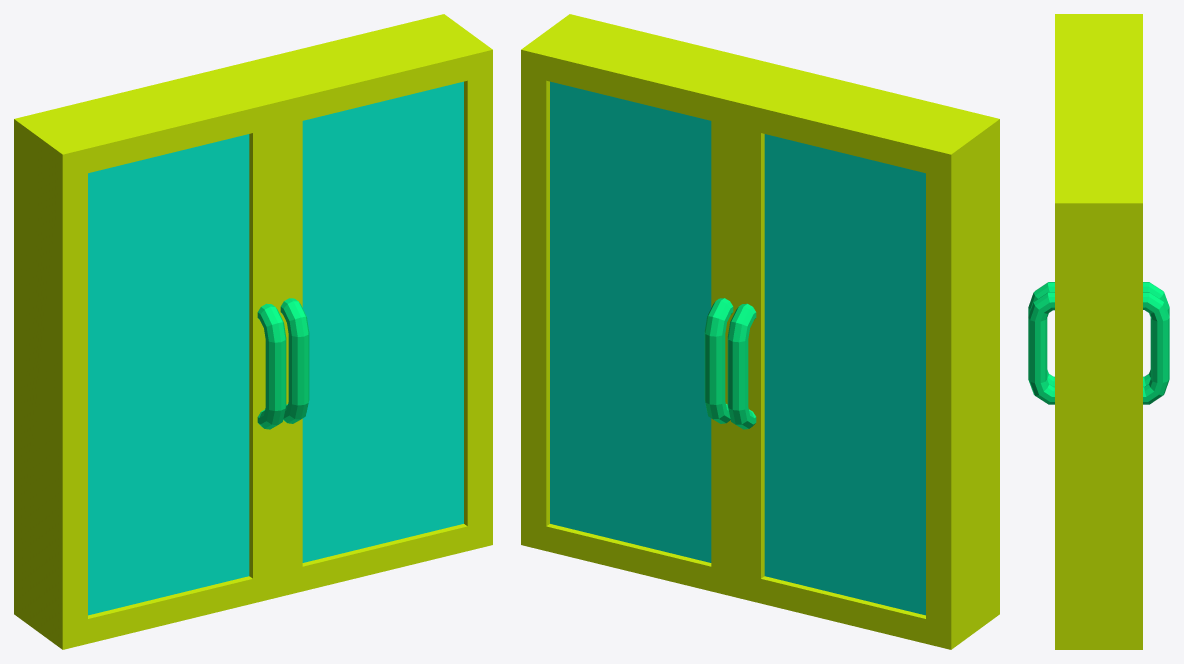
The model's file is Door.fbx.
The picture shows the model from 3 angles, left to right: view 1: azimuth 30°, elevation 25°; view 2: azimuth 150°, elevation 25°; view 3: azimuth 270°, elevation 25°; orthographic projection. The views are drawn at different scales.
Visible parts, largest first — view 1: pCube6, pCube7, pCube4, pCube5, pTorus3, pTorus4; view 2: pCube6, pCube7, pCube4, pCube5, pTorus5, pTorus6; view 3: pCube5, pCube4, pTorus4, pTorus6, pTorus3, pTorus5.
Boxes of the visible parts, left/top/right/bottom form: pCube6: left=88, top=134, right=249, bottom=615; pCube7: left=302, top=81, right=463, bottom=562; pCube4: left=14, top=66, right=278, bottom=649; pCube5: left=229, top=14, right=492, bottom=597; pTorus3: left=257, top=303, right=286, bottom=429; pTorus4: left=280, top=298, right=309, bottom=423; pCube6: left=764, top=134, right=925, bottom=615; pCube7: left=550, top=81, right=711, bottom=562; pCube4: left=735, top=66, right=999, bottom=649; pCube5: left=521, top=14, right=783, bottom=597; pTorus5: left=727, top=303, right=756, bottom=429; pTorus6: left=704, top=298, right=733, bottom=423; pCube5: left=1055, top=108, right=1142, bottom=649; pCube4: left=1055, top=14, right=1142, bottom=108; pTorus4: left=1028, top=292, right=1054, bottom=404; pTorus6: left=1143, top=292, right=1169, bottom=404; pTorus3: left=1028, top=282, right=1054, bottom=386; pTorus5: left=1143, top=282, right=1169, bottom=386.
Size of the model in its own units: 254 by 280 by 80.39.
